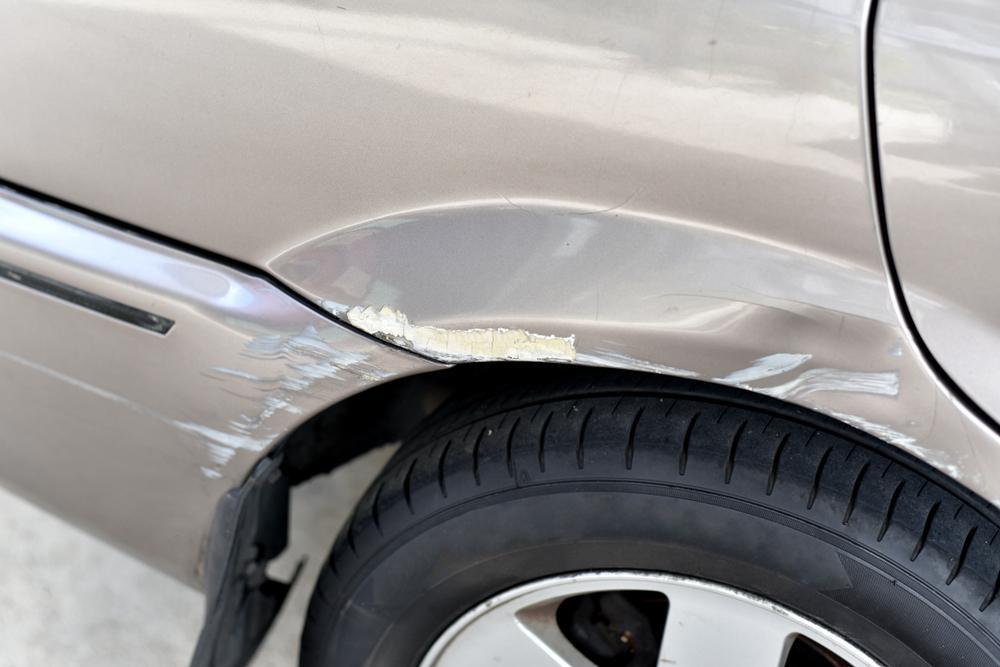dent: (724, 306, 918, 427)
scratch: (0, 322, 397, 486), (341, 298, 715, 383)
